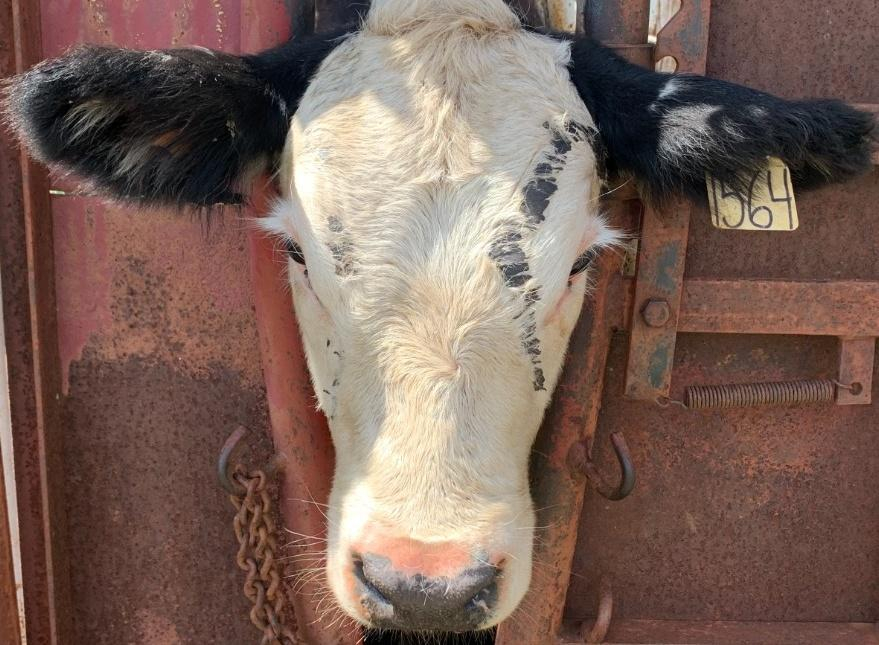muzzles: (323, 528, 541, 636)
